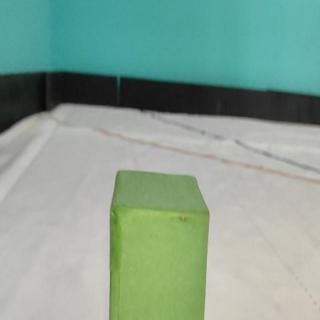greenbox: (105, 168, 213, 320)
